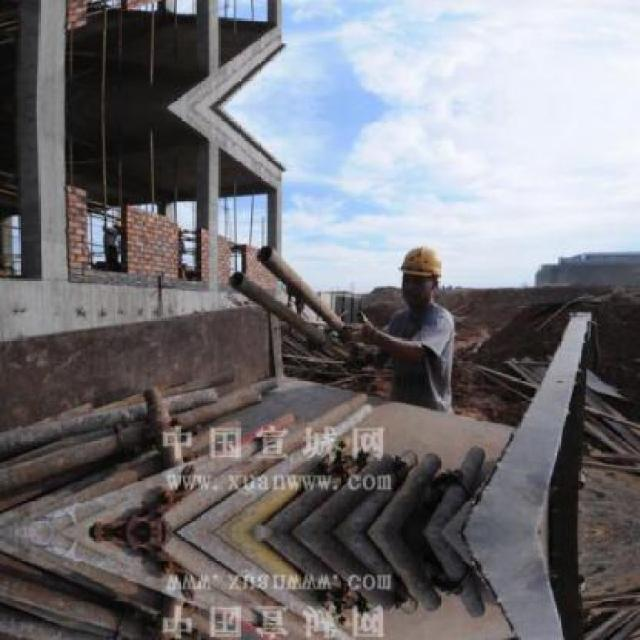helmet: (393, 236, 447, 310)
